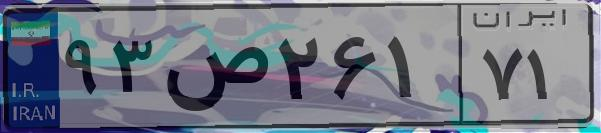1: (385, 28, 445, 110), (525, 38, 570, 115)
2: (270, 28, 330, 110)
3: (110, 28, 158, 98)
6: (330, 28, 385, 110)
7: (475, 38, 525, 113)
9: (57, 26, 110, 100)
ص: (158, 20, 270, 120)
